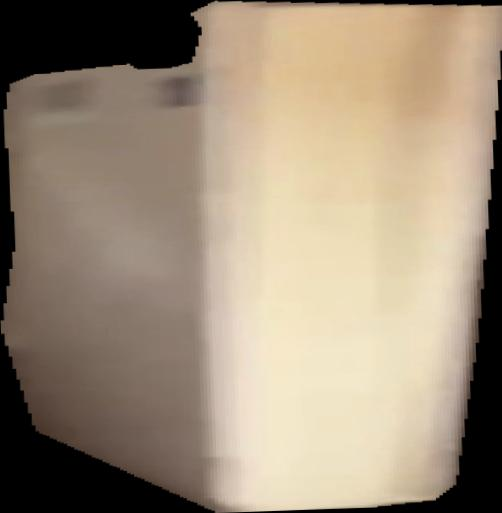backward: (1, 1, 502, 513)
